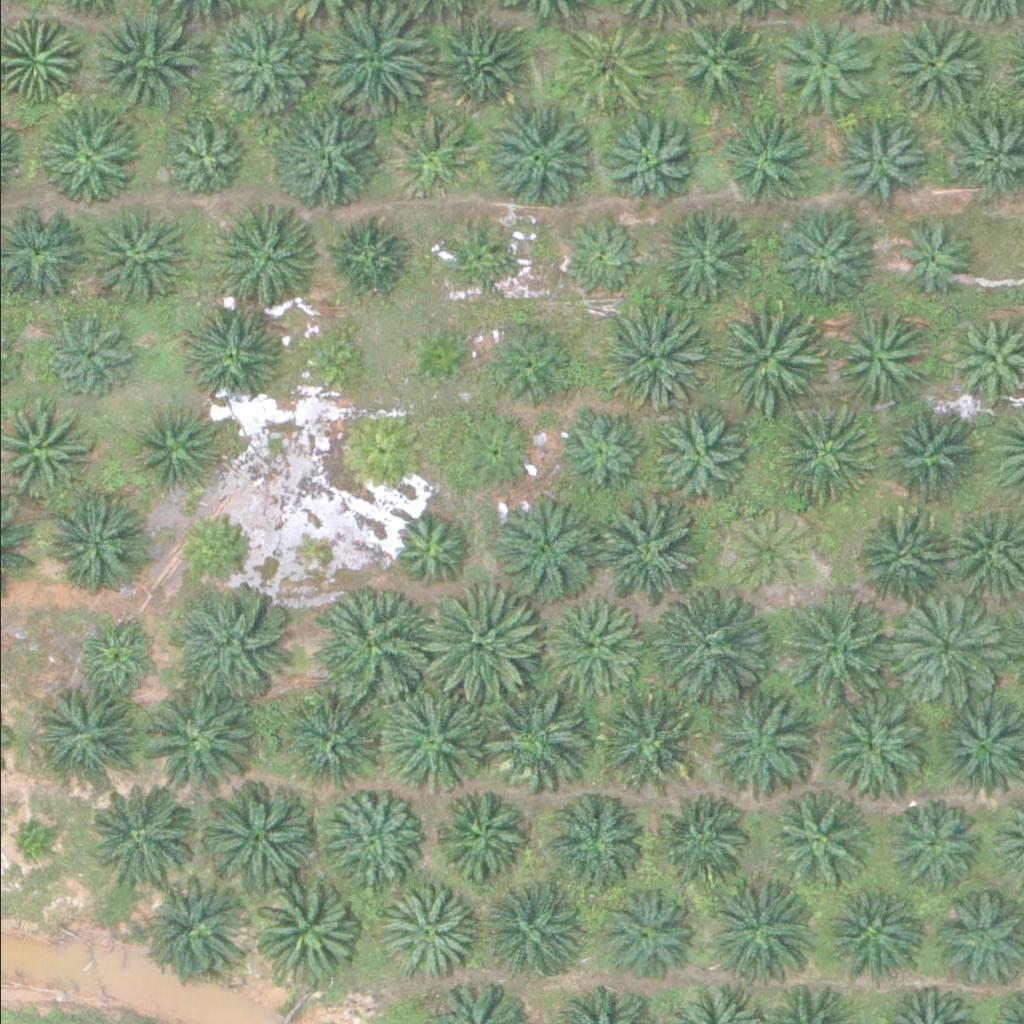Kelapa_Sawit: (774, 589, 888, 702), (199, 777, 312, 890), (82, 774, 195, 887), (318, 592, 431, 705), (170, 589, 283, 702), (482, 682, 595, 795), (649, 589, 762, 702), (596, 299, 709, 412), (708, 300, 821, 413), (206, 11, 320, 123), (139, 681, 253, 793), (380, 685, 494, 797), (428, 587, 542, 699), (890, 590, 1003, 702), (92, 3, 205, 115), (272, 101, 385, 213), (247, 873, 360, 985), (139, 870, 252, 982), (30, 686, 143, 798), (704, 877, 817, 989), (766, 398, 879, 510), (482, 100, 595, 212), (583, 496, 696, 608), (490, 491, 603, 603), (879, 395, 980, 495), (42, 107, 143, 207), (78, 209, 179, 309), (180, 300, 281, 400), (48, 496, 149, 596), (373, 884, 474, 984), (428, 782, 529, 882), (320, 789, 421, 889), (820, 884, 921, 984), (540, 598, 641, 698), (646, 403, 747, 503), (827, 307, 928, 407), (767, 205, 868, 305), (654, 207, 755, 307), (595, 109, 696, 209), (777, 15, 878, 115), (667, 12, 768, 112), (885, 19, 985, 119), (425, 13, 525, 113), (217, 206, 317, 306), (472, 882, 572, 982), (283, 696, 383, 796), (596, 882, 696, 982), (551, 794, 651, 894), (771, 786, 871, 886), (655, 791, 755, 891), (822, 697, 922, 797), (705, 697, 805, 797), (592, 689, 692, 789), (852, 499, 952, 599), (559, 18, 659, 118), (338, 407, 427, 495), (69, 613, 157, 701), (452, 407, 540, 495), (721, 508, 809, 596), (554, 212, 642, 300), (722, 115, 810, 203), (831, 114, 919, 202), (555, 409, 644, 496), (884, 211, 972, 298), (888, 800, 976, 887), (389, 115, 477, 202), (155, 119, 243, 206), (325, 214, 413, 301), (48, 312, 136, 399), (128, 406, 216, 493), (384, 503, 472, 590), (482, 318, 570, 405), (179, 510, 255, 585), (402, 318, 478, 393), (294, 322, 370, 397), (432, 224, 507, 299)
